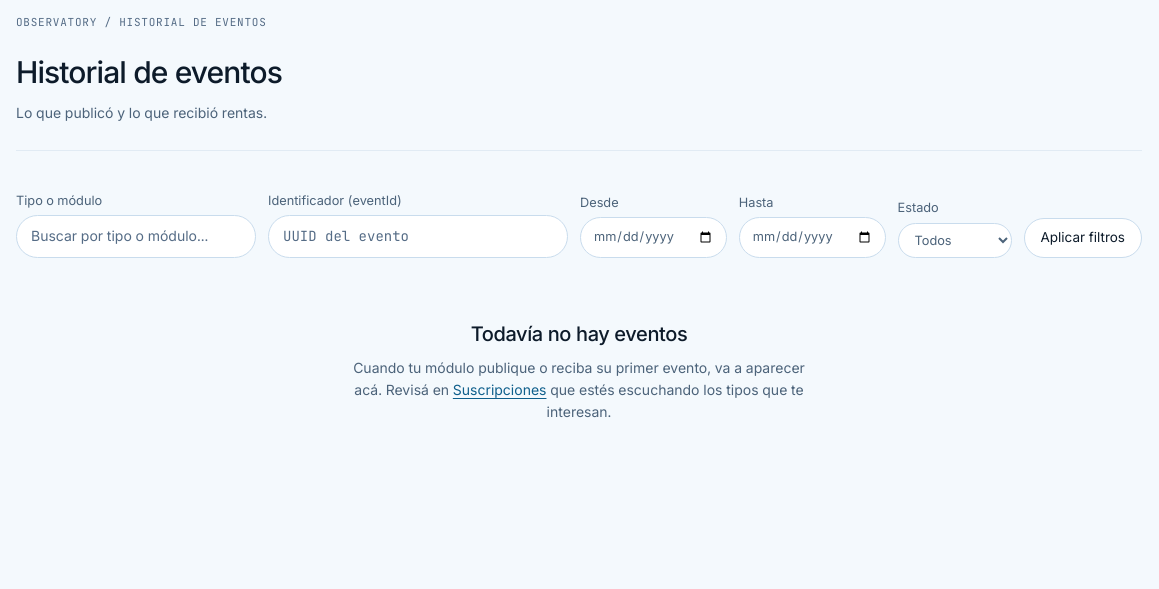
Test: Historial de eventos › filtra por estado y rango de fechas con la API (HU-06)
Expected: the heading "Todavía no hay eventos" is shown, x1=471 y1=322 x2=687 y2=346
Select "Rechazado" in the dropdown labelled "Estado". click: (954,240)
box: x1=898 y1=223 x2=1012 y2=258
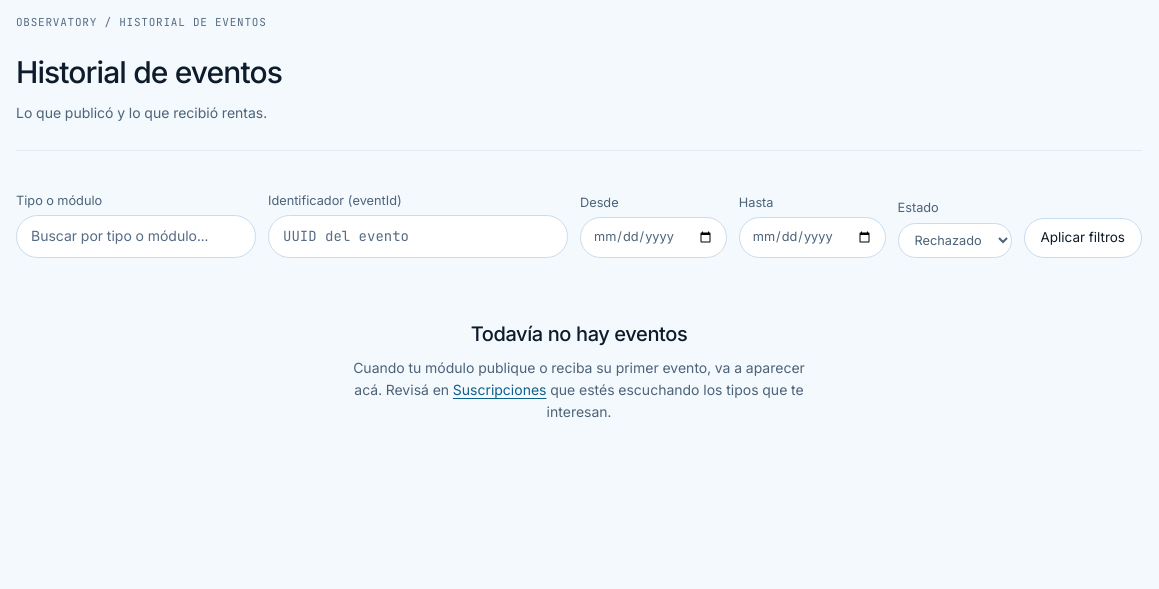
Type "2026-11-01" into the date field labelled "Desde". click: (653,238)
box: x1=580 y1=217 x2=727 y2=258
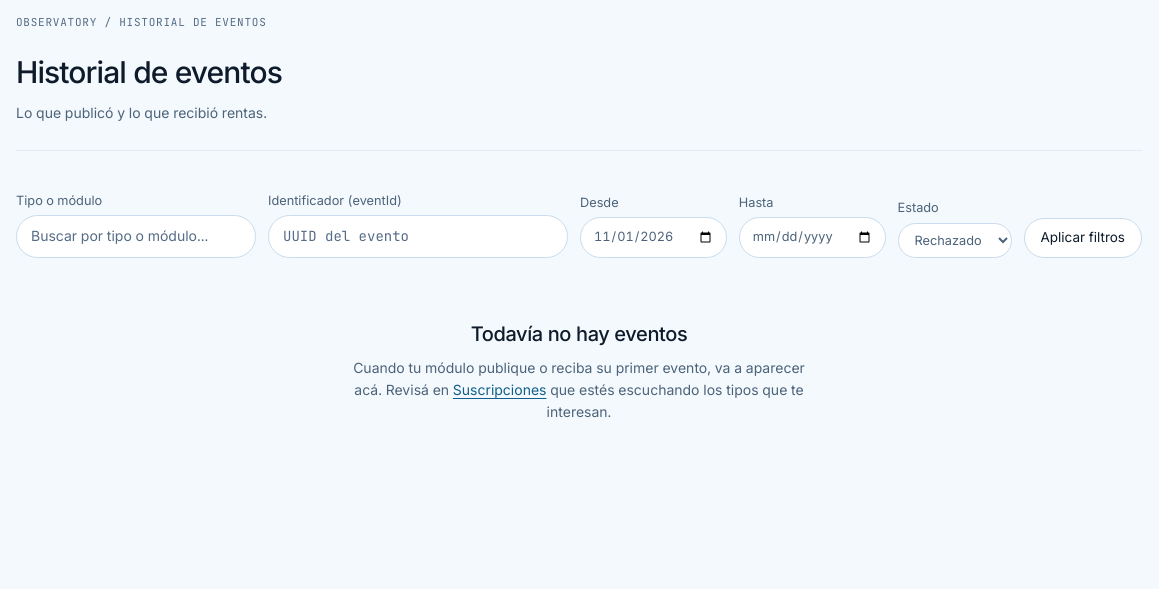
Type "2026-11-02" into the date field labelled "Hasta". click: (812,238)
box: x1=739 y1=217 x2=886 y2=258
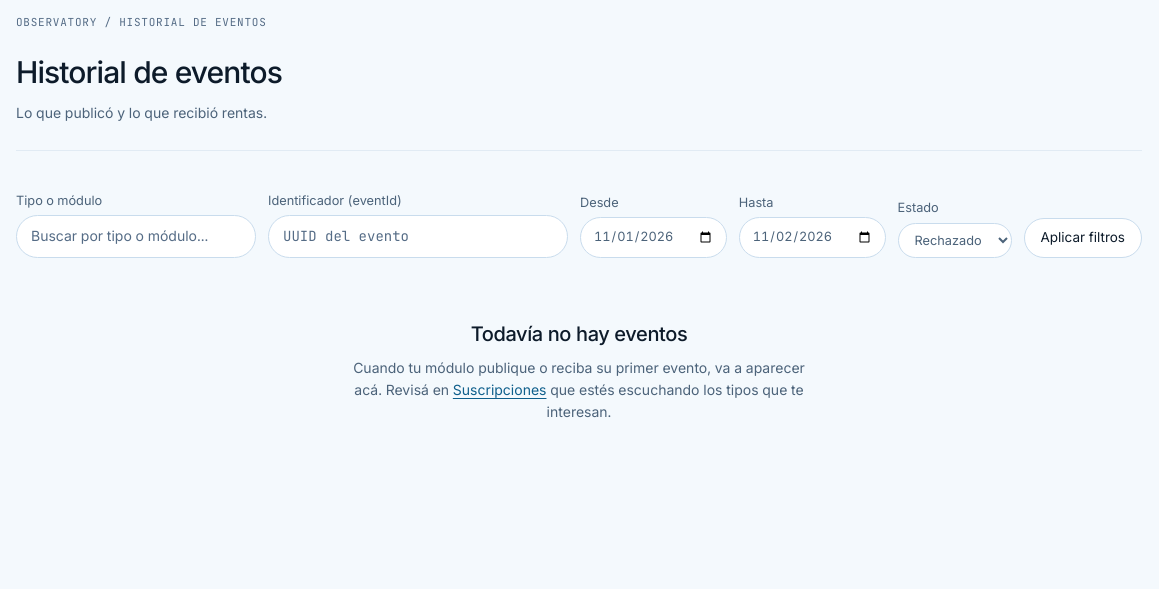
Click the button "Aplicar filtros". click: (1083,238)
box: x1=1024 y1=218 x2=1142 y2=258
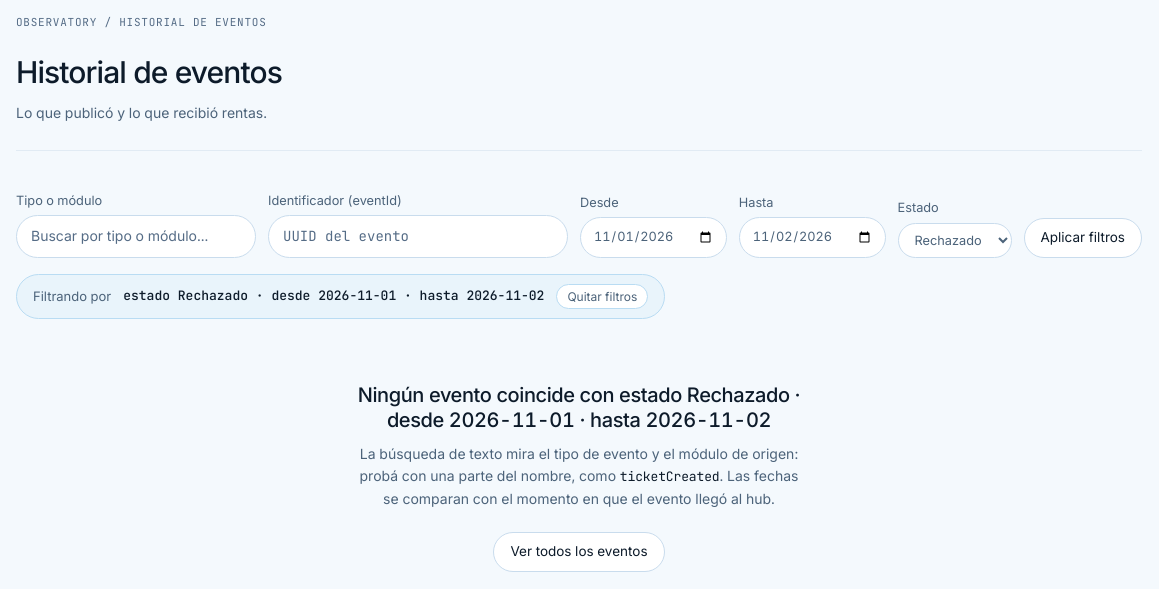
Result: the text "estado Rechazado · desde 2026-11-01 · hasta 2026-11-02" is shown at x1=123 y1=286 x2=544 y2=307
